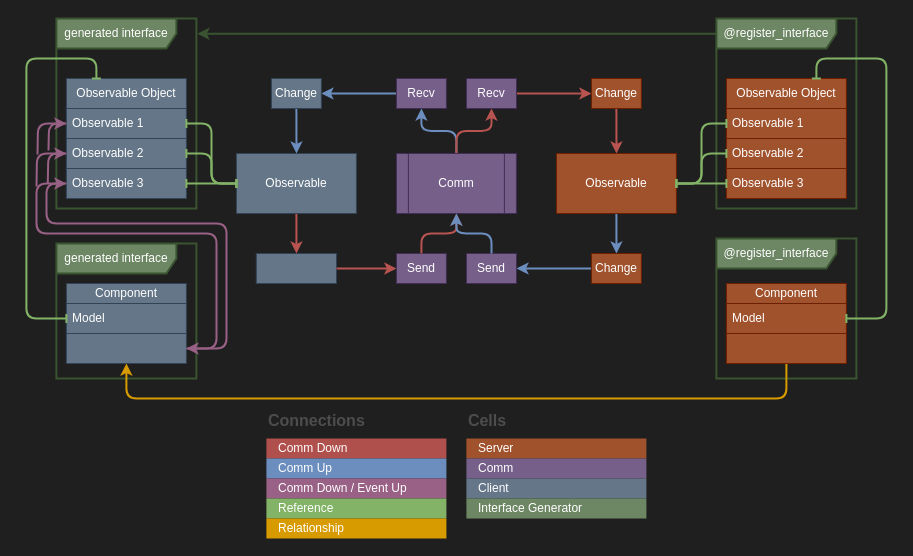
This 913x556 diagram has some shape labels left out. The box of each missing label's shape, as (x1, y1, x2, y2) in pixels:
ClientChange: (255, 252, 336, 284)
View: (65, 332, 186, 364)
View ID: (725, 332, 846, 364)
